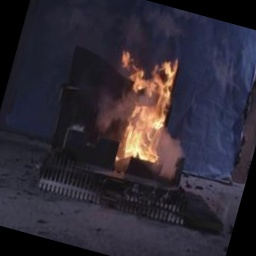fire: (85, 40, 195, 181)
